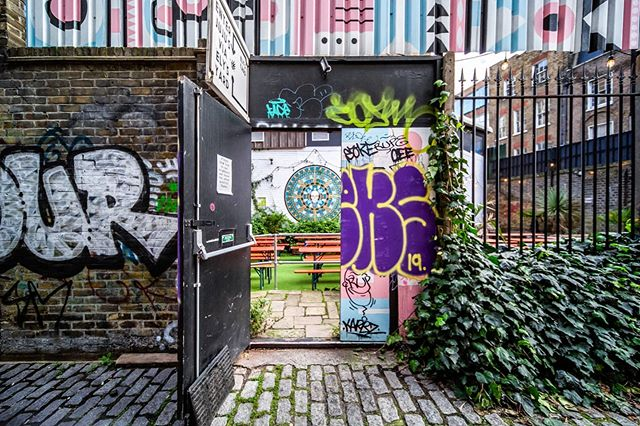building: (489, 42, 640, 185)
door: (342, 127, 434, 353)
graffiti: (1, 145, 186, 340), (344, 129, 436, 355), (264, 78, 429, 128)
